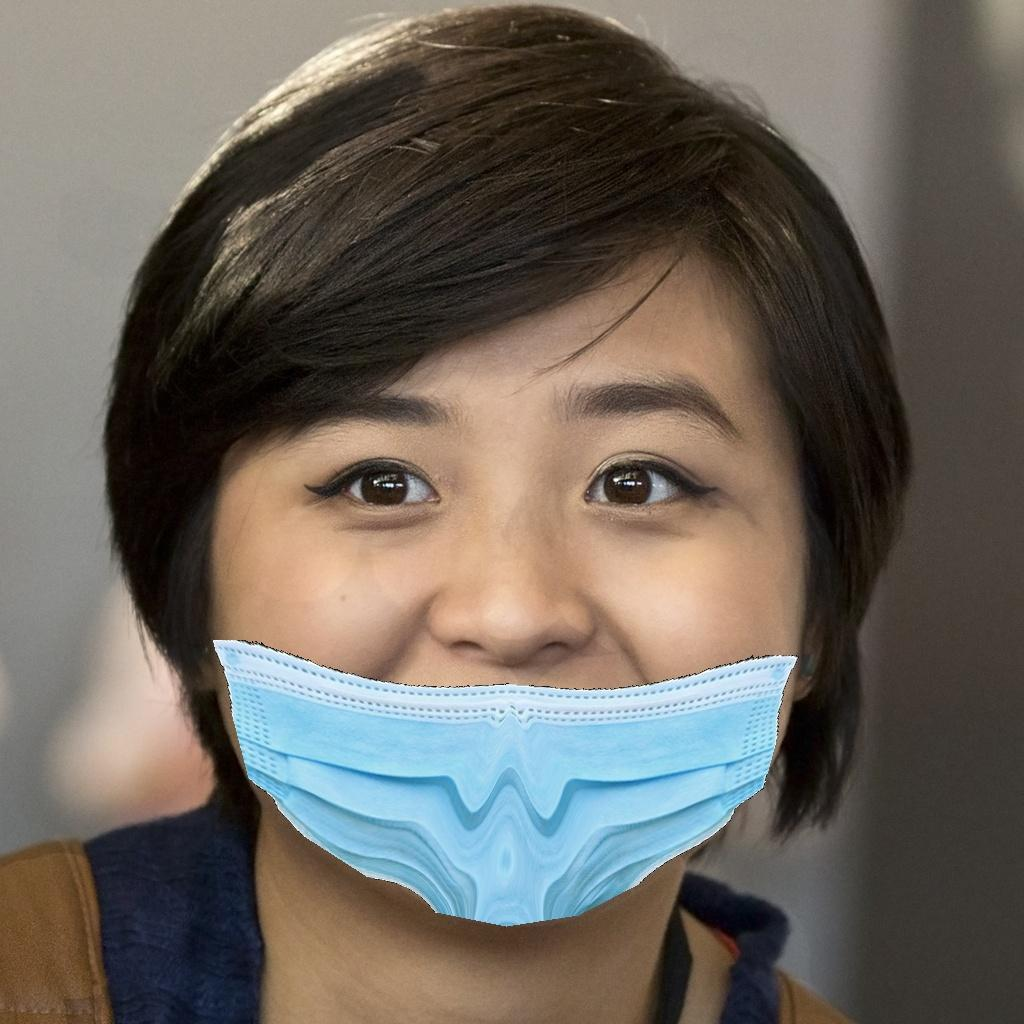Máscara Incorreta: (181, 336, 810, 911)
